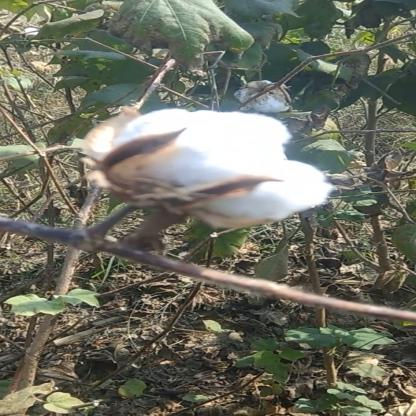cotton_ready: (81, 92, 340, 260)
